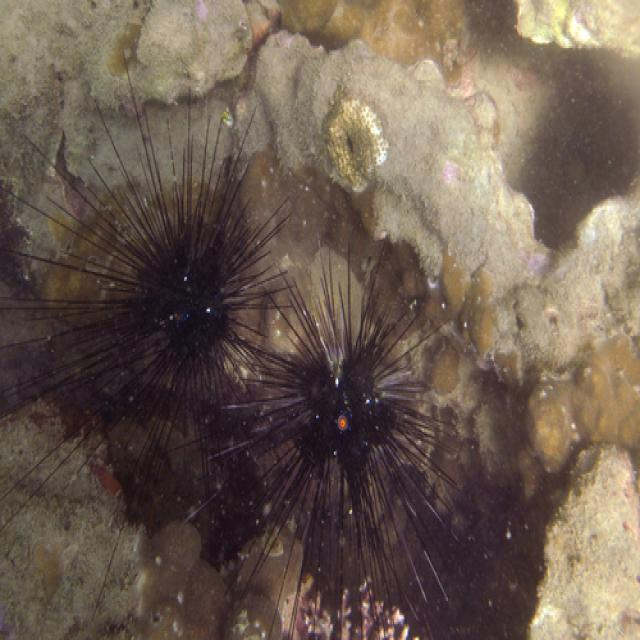Urchin: (1, 94, 296, 608), (219, 240, 461, 624)
